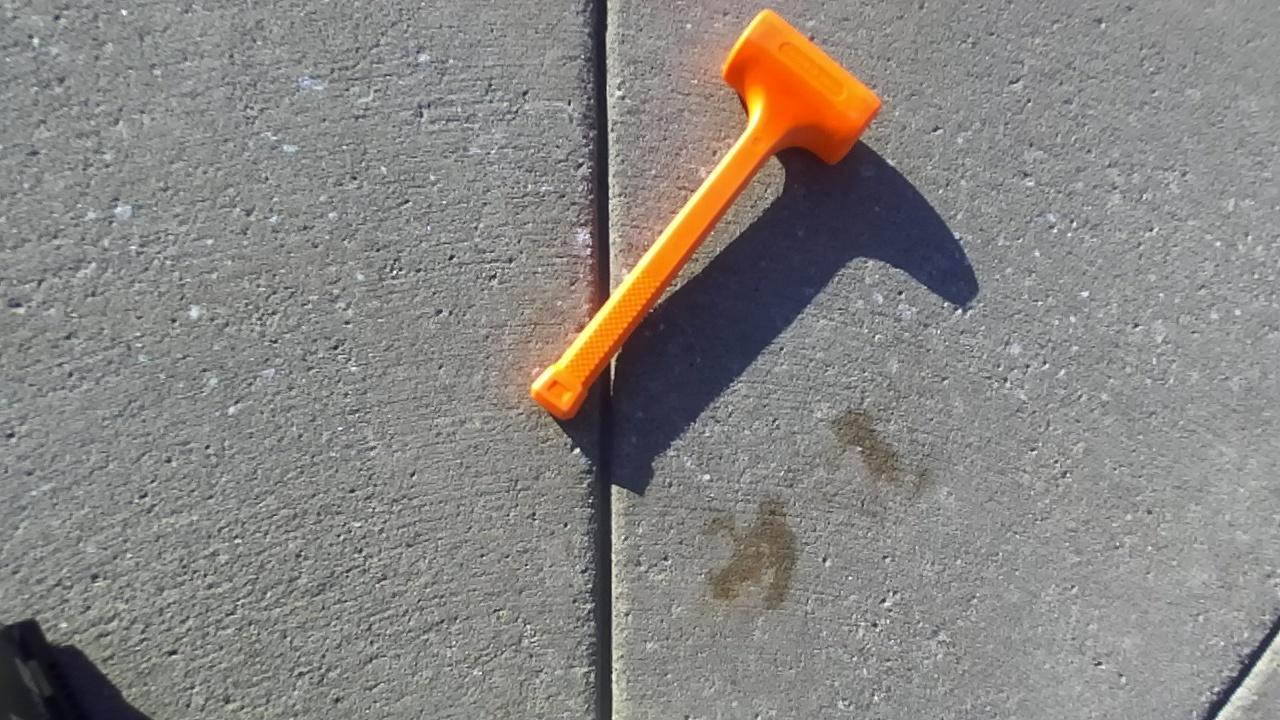mallet: (531, 9, 879, 419)
